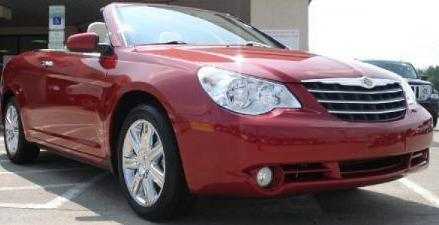front_view: (192, 55, 427, 189)
headlight: (200, 67, 300, 121)
side_glass: (32, 6, 115, 54)
